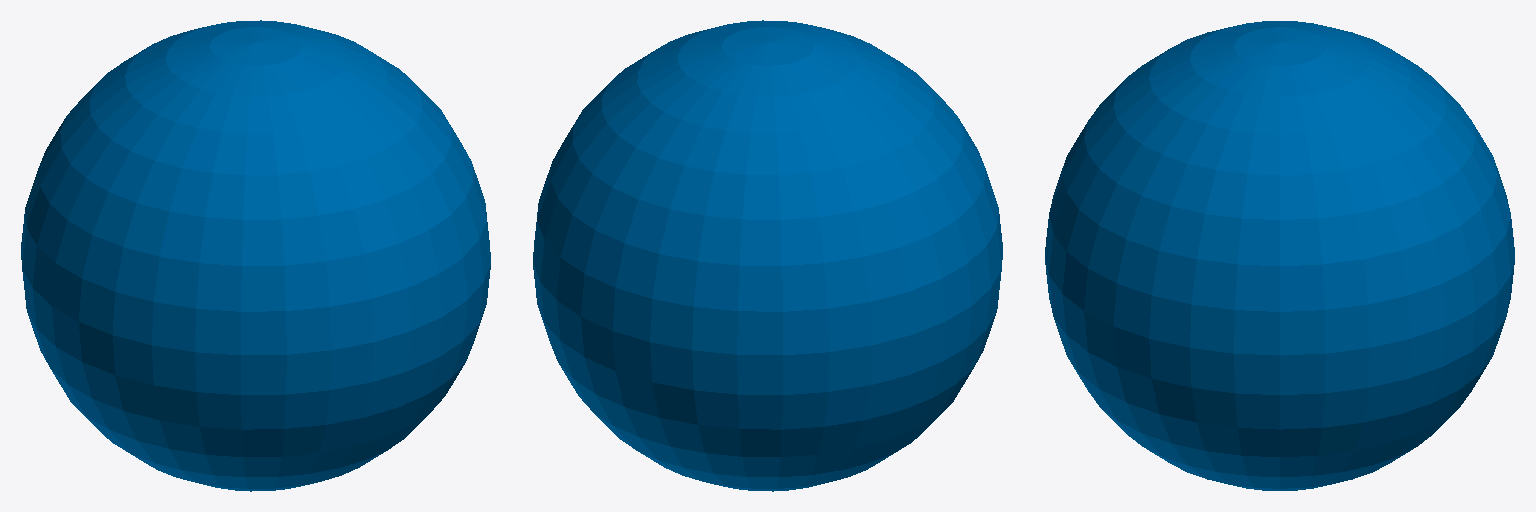
URDF robot description (cartesian_robot):
<?xml version="1.0"?>
<robot name="cartesian_robot">
    <link name="base_link">
    </link>

    <link name="x_axis_link"/>
    <link name="y_axis_link"/>
    <link name="z_axis_link"/>

    <link name="end_effector">
        <visual>
            <geometry>
                <sphere radius="0.5"/> 
            </geometry>            
        </visual>
        <collision>
            <geometry>
                <sphere radius="0.5"/> 
            </geometry>            
        </collision>
    </link>

    <joint name="x_axis_joint" type="prismatic">
        <parent link="base_link"/>
        <child link="x_axis_link"/>
        <axis xyz="1.0 0.0 0.0"/>        
        <limit lower="-1.0" upper="1.0" effort="1.0" velocity="1.0"/>
        <origin rpy="0 0 0" xyz="0 0 0"/>
    </joint>

    <joint name="y_axis_joint" type="prismatic">
        <parent link="x_axis_link"/>
        <child link="y_axis_link"/>
        <axis xyz="0.0 1.0 0.0"/>        
        <limit lower="-1.0" upper="1.0" effort="1.0" velocity="1.0"/>
        <origin rpy="0 0 0" xyz="0 0 0"/>
    </joint>

    <joint name="z_axis_joint" type="prismatic">
        <parent link="y_axis_link"/>
        <child link="z_axis_link"/>
        <axis xyz="0.0 0.0 -1.0"/>        
        <limit lower="-1.0" upper="1.0" effort="1.0" velocity="1.0"/>
        <origin rpy="0 0 0" xyz="0 0 0"/>
    </joint>

    <joint name="end_effector_joint" type="fixed">
        <parent link="z_axis_link"/>
        <child link="end_effector"/>
        <origin rpy="0 0 0" xyz="0 0 0"/>        
    </joint>
        


</robot>

--- Render facts (derived) ---
Views: 3 orthographic renders of the robot side by side, from view 1: azimuth 30°, elevation 25°; view 2: azimuth 150°, elevation 25°; view 3: azimuth 270°, elevation 25°.
Model cartesian_robot with 5 links and 4 joints (3 prismatic, 1 fixed), rooted at base_link, posed every joint at zero.
Links seen in each view (by area): view 1: end_effector; view 2: end_effector; view 3: end_effector.
Link boxes in pixels (x1,y1,x2,y2): end_effector: (21, 20, 490, 491); end_effector: (533, 20, 1002, 491); end_effector: (1045, 21, 1514, 490).
Bounding box of the posed robot: 1 × 1 × 1 m (x, y, z).
Geometry: primitives only (box / cylinder / sphere), no mesh files.
